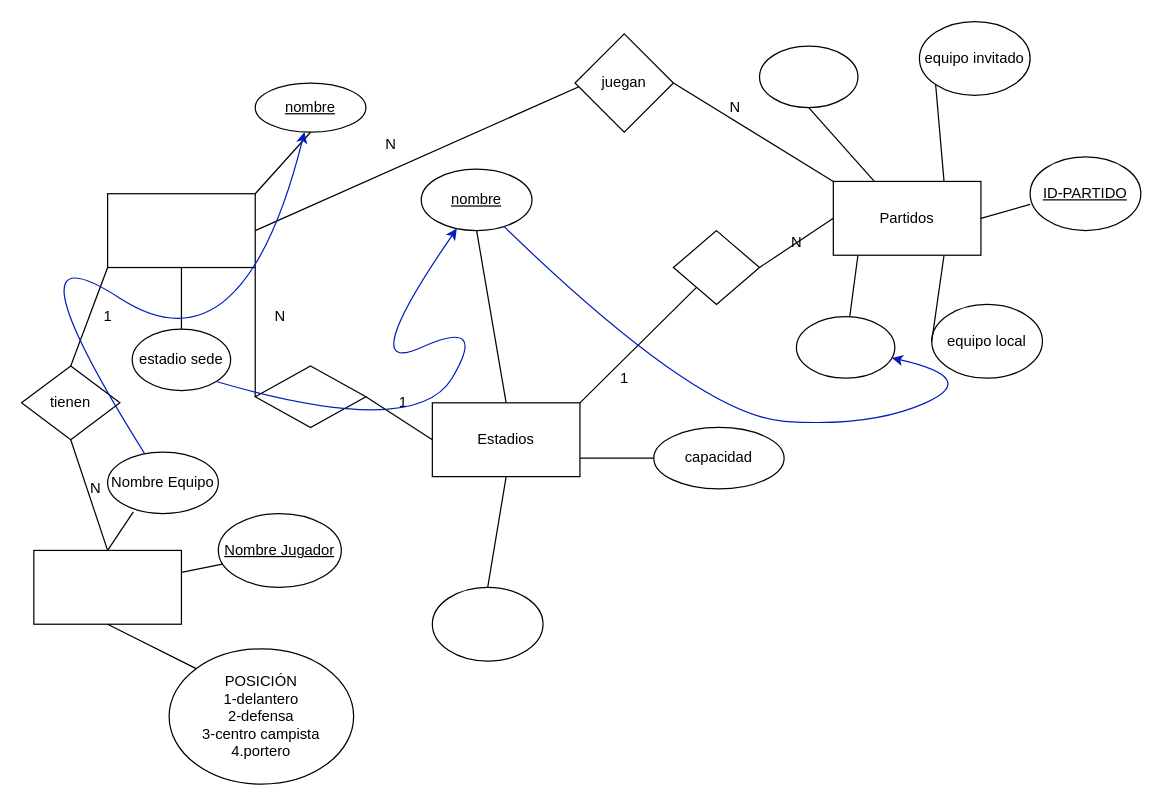
Image size: 1162x806. Some labels were removed from this diagram. Here are the shapes that lost their labels. From the top down, the centre of each, then its label:
the point at 808,76: resultado
the point at 180,230: Equipos
the point at 716,266: celebren
the point at 845,346: estadio
the point at 310,396: juegan en
the point at 107,586: Jugadores
the point at 487,623: ciudad
